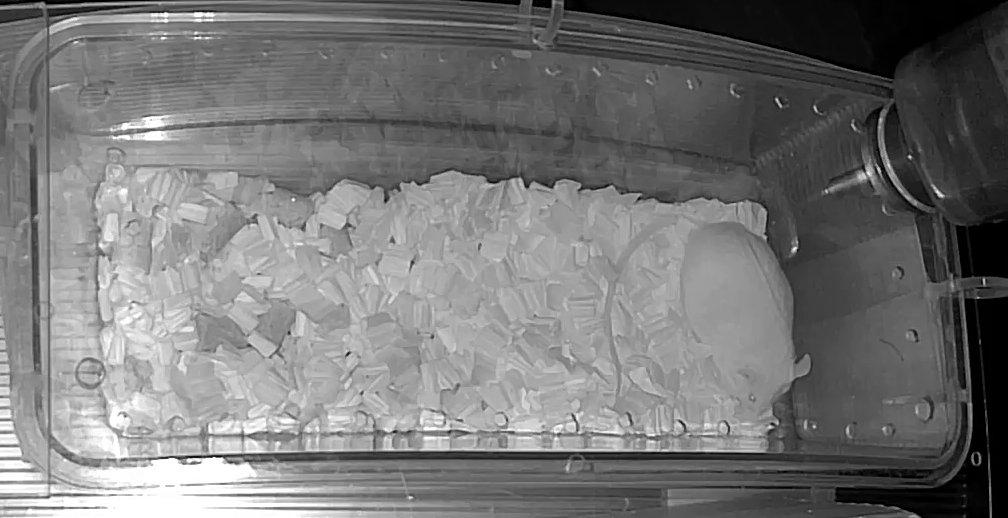rat: (606, 215, 812, 423)
